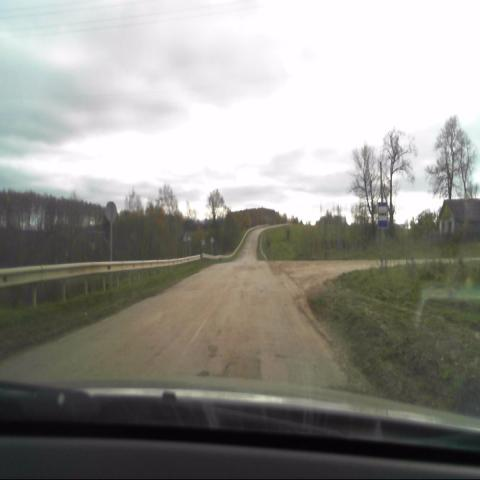5_16: (378, 202, 388, 228)
